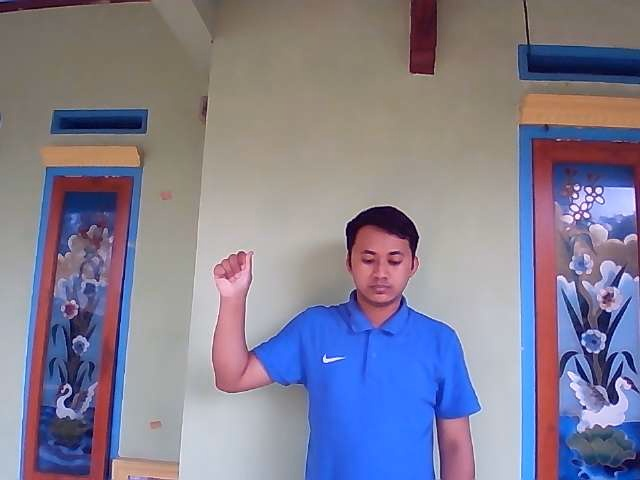A: (213, 250, 255, 296)
